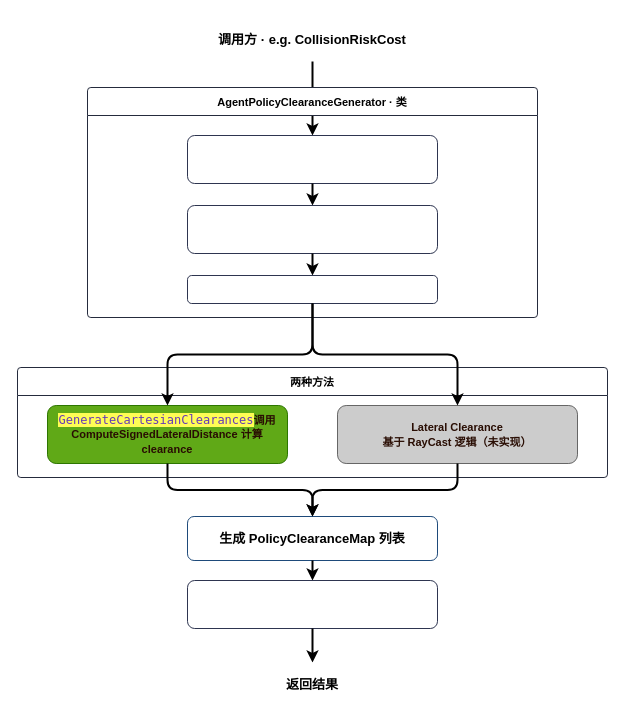
Some shapes in this 625 by 723 pixel diagram are drawn without their labels. Each missing label, with the centre of its shape:
AgentPolicyClearanceData 封装结果，并提供query 接口 供外部调用。: (x=312, y=604)
CollectPolicyObjectSnapshotInfo() 提取policy info 信息: (x=312, y=229)
Generate(): (x=312, y=159)
生成clearance: (x=312, y=289)
